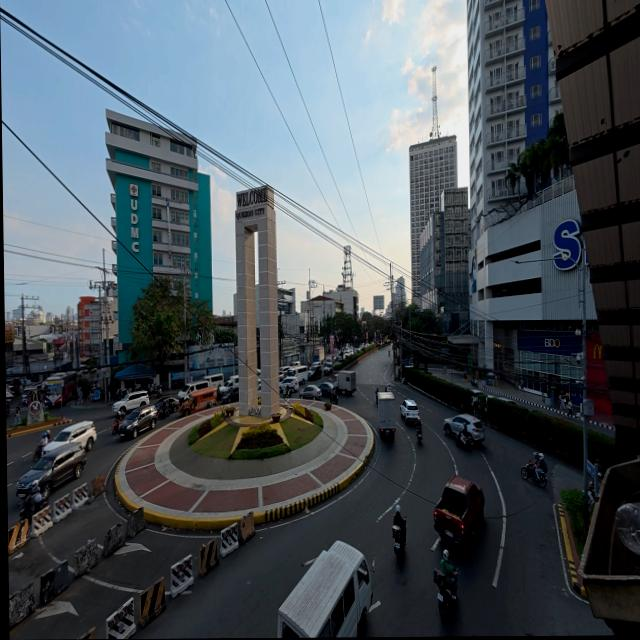Jeepneys: (180, 387, 216, 416)
bus: (44, 372, 77, 407)
car: (16, 443, 86, 498), (434, 476, 485, 550), (44, 421, 97, 454), (118, 406, 158, 438), (444, 415, 485, 443), (113, 391, 149, 413), (178, 379, 210, 402), (218, 375, 239, 397), (155, 397, 180, 415), (401, 399, 419, 423), (23, 385, 42, 404), (280, 377, 298, 396), (300, 385, 322, 400), (222, 386, 239, 403), (488, 396, 518, 405), (307, 363, 322, 380), (319, 382, 335, 397), (471, 389, 484, 406), (323, 365, 333, 374), (310, 361, 321, 368), (257, 377, 262, 391), (290, 361, 300, 367)
motorcycle: (434, 569, 455, 616), (20, 493, 48, 519), (521, 462, 546, 488), (393, 525, 405, 562), (33, 440, 49, 462), (456, 435, 474, 451), (588, 480, 598, 504), (112, 415, 123, 435), (148, 384, 162, 398), (157, 405, 169, 418), (416, 420, 422, 444), (330, 392, 338, 404), (471, 378, 478, 387), (6, 404, 11, 415), (389, 351, 390, 357)
trucks: (434, 476, 484, 550), (378, 391, 395, 437), (334, 370, 356, 396)
vans: (277, 542, 372, 637), (178, 374, 224, 401), (178, 379, 210, 401), (289, 365, 308, 384), (219, 375, 239, 393), (207, 374, 224, 388)
